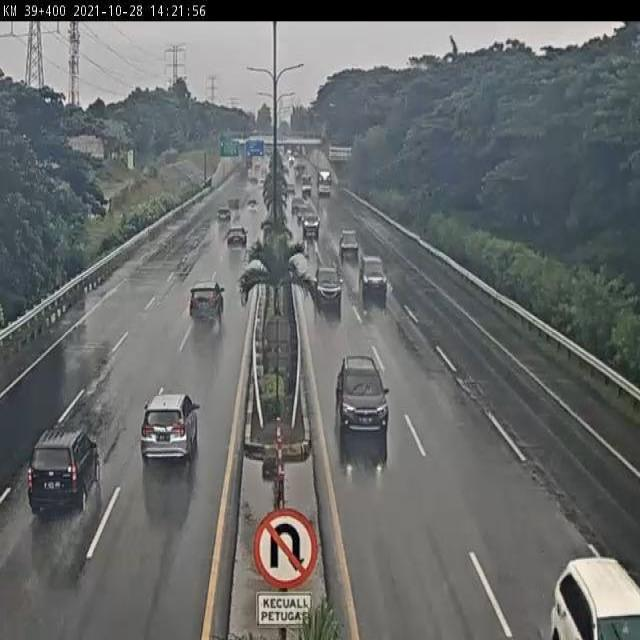ARABA: (26, 429, 100, 519), (334, 354, 393, 434), (138, 390, 201, 462), (187, 280, 227, 324), (358, 255, 390, 296), (314, 265, 345, 304), (336, 229, 361, 260), (303, 212, 321, 239), (226, 227, 247, 250)
